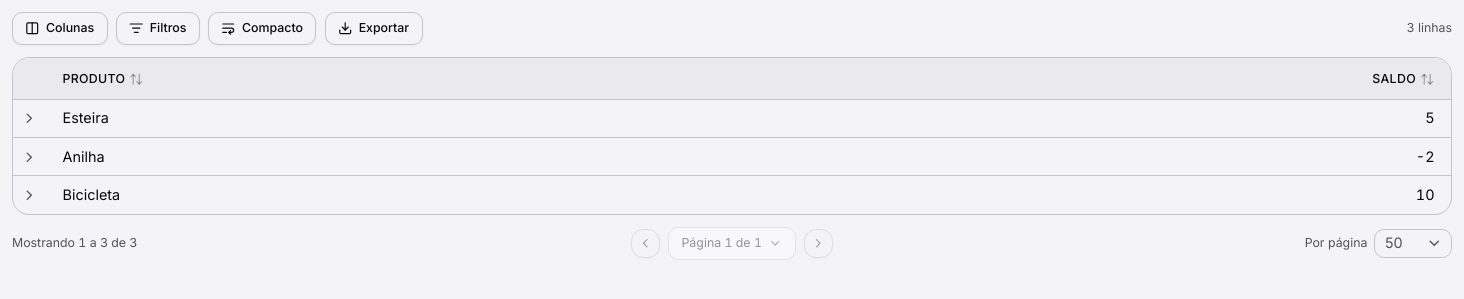
DataTable linhas expansíveis (c3) › clique na linha expande o detalhe
The image size is (1464, 299).
Click the row "Esteira 5" at (732, 119), box [13, 100, 1451, 138]
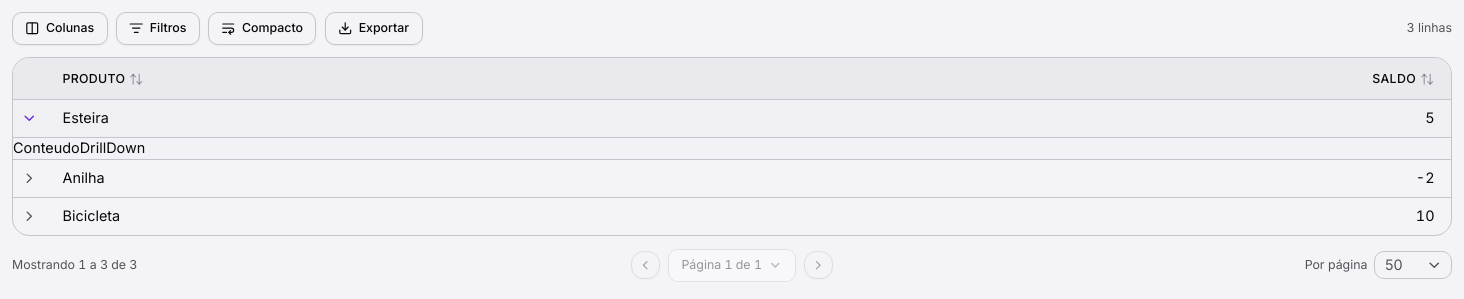
Expected: the row "Esteira 5" is expanded, [13, 100, 1451, 138]
Expected: the text "ConteudoDrillDown" is shown, [13, 139, 145, 156]
